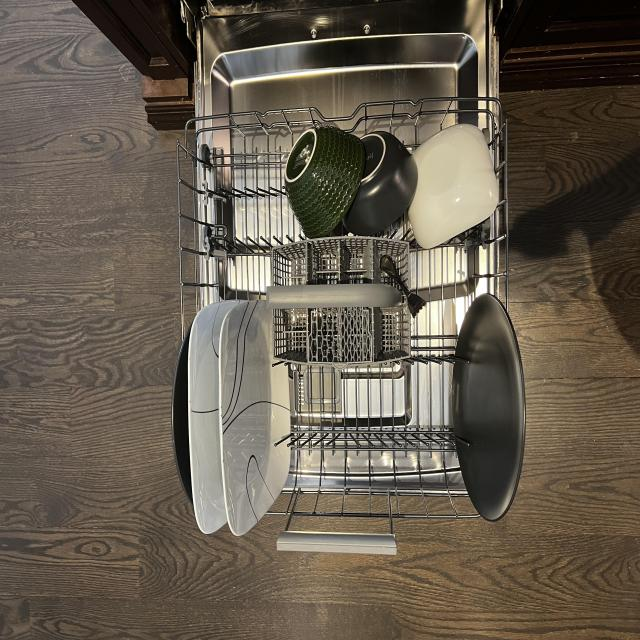Bowl: (285, 122, 365, 238)
Fork: (379, 250, 428, 324)
Plate: (218, 296, 294, 536), (450, 294, 526, 526)
